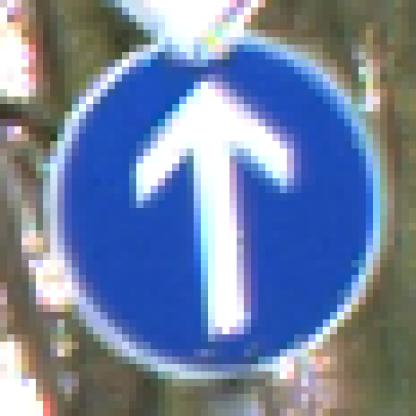AheadOnly: (44, 38, 381, 380)
